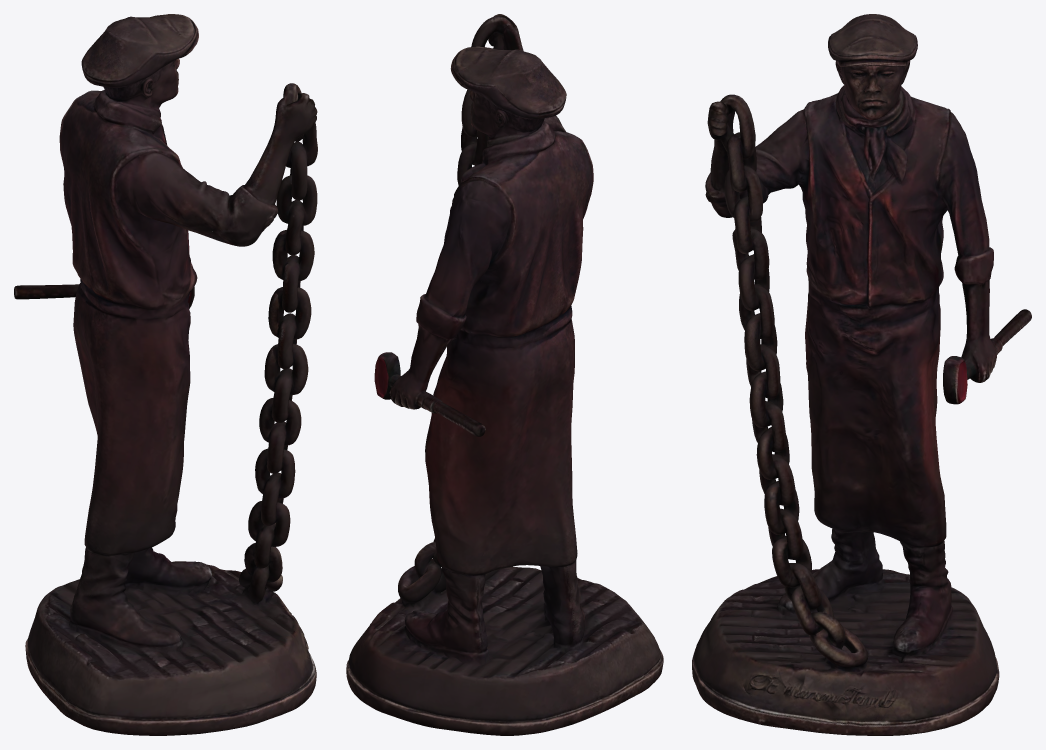
The model's file is henry.glb.
3 renders of one model, left to right at view 1: azimuth 30°, elevation 25°; view 2: azimuth 150°, elevation 25°; view 3: azimuth 270°, elevation 25°, orthographic.
Visible parts, largest first — view 1: tripo_node_c3739a88-c32a-481f-bc10-0ae24033f6d7; view 2: tripo_node_c3739a88-c32a-481f-bc10-0ae24033f6d7; view 3: tripo_node_c3739a88-c32a-481f-bc10-0ae24033f6d7.
Boxes of the visible parts, x1,y1,x2,y2 form: tripo_node_c3739a88-c32a-481f-bc10-0ae24033f6d7: [14, 14, 317, 735]; tripo_node_c3739a88-c32a-481f-bc10-0ae24033f6d7: [346, 14, 663, 735]; tripo_node_c3739a88-c32a-481f-bc10-0ae24033f6d7: [692, 14, 1031, 735].
Bounding box in the file's own units: 0.1861 × 0.4572 × 0.2177.
Materials: 1 (1 with a texture image).
